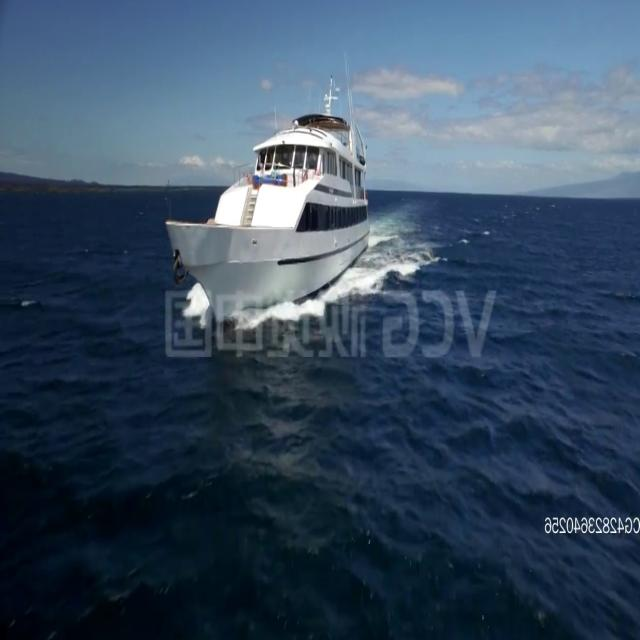houseboat: (163, 106, 368, 325)
